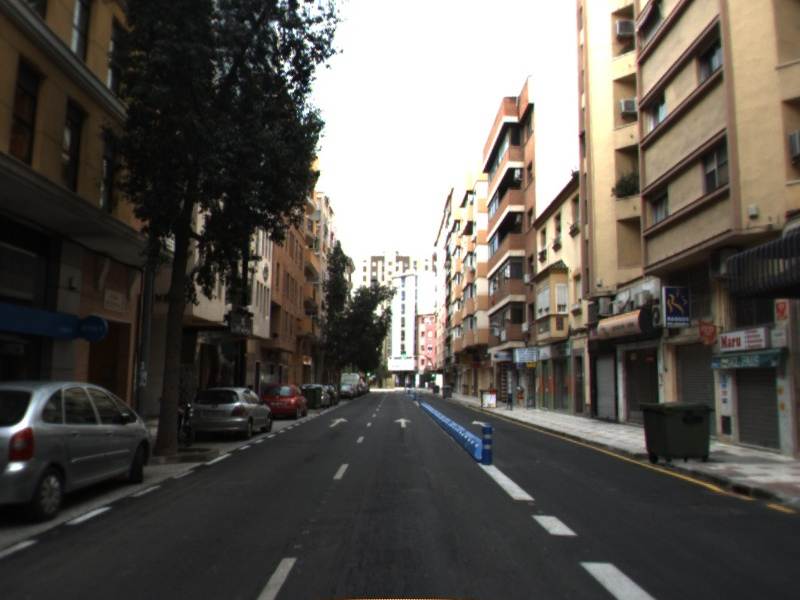STRAIGHT: (327, 416, 349, 428), (393, 416, 413, 429)
